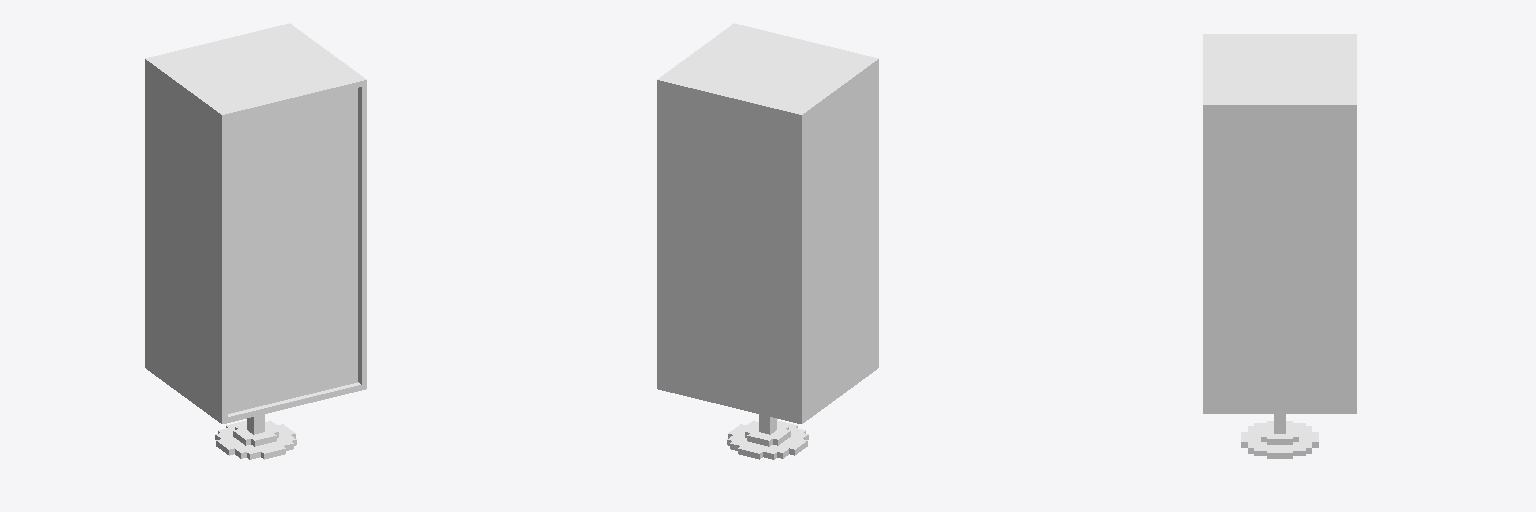
The model's file is speaker.obj.
The picture shows the model from 3 angles: view 1: azimuth 30°, elevation 25°; view 2: azimuth 150°, elevation 25°; view 3: azimuth 270°, elevation 25°; orthographic projection.
Bounding box in the file's own units: 26 × 64 × 24.